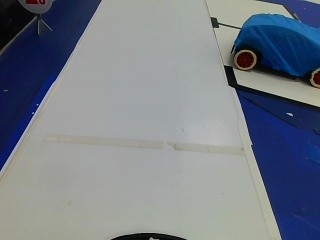car: (221, 12, 318, 83)
